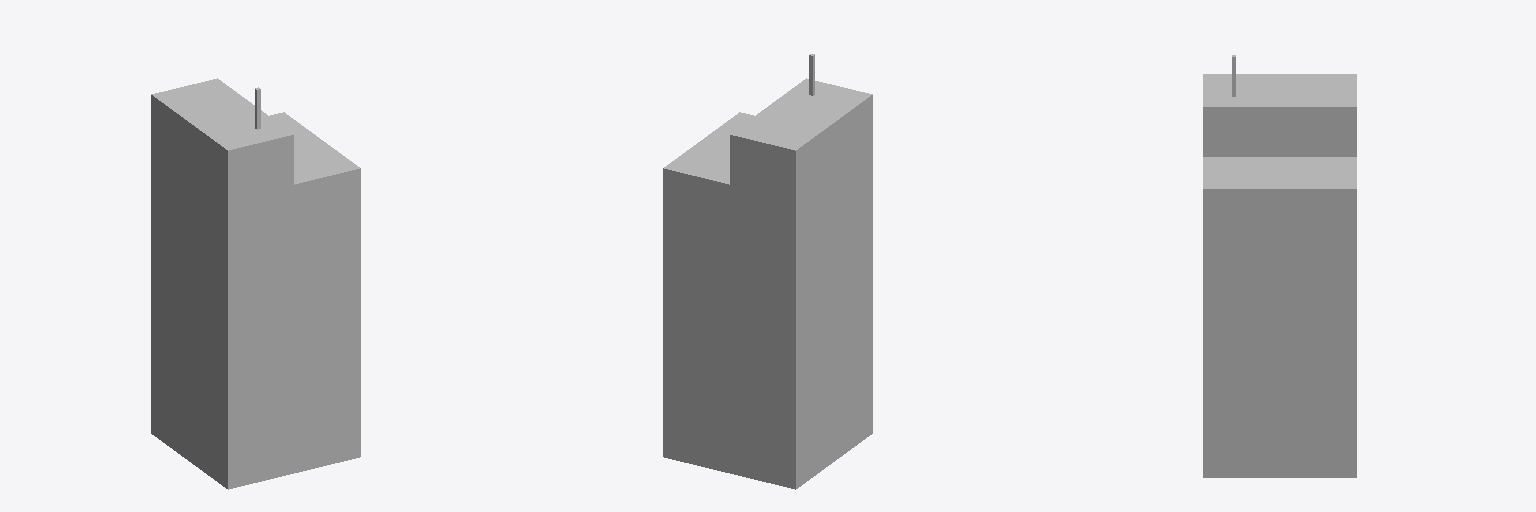
Rendered from skyscraper.obj.
3 renders of one model, left to right at view 1: azimuth 30°, elevation 25°; view 2: azimuth 150°, elevation 25°; view 3: azimuth 270°, elevation 25°, orthographic.
Visible parts, largest first — view 1: Cube.001_Cube.002; view 2: Cube.001_Cube.002; view 3: Cube.001_Cube.002.
Part boxes in pixels (x1,y1,x2,y2): Cube.001_Cube.002: (151,78,360,489); Cube.001_Cube.002: (663,54,872,489); Cube.001_Cube.002: (1203,55,1356,477).
Bounding box in the file's own units: 5.61 × 15.29 × 5.61.